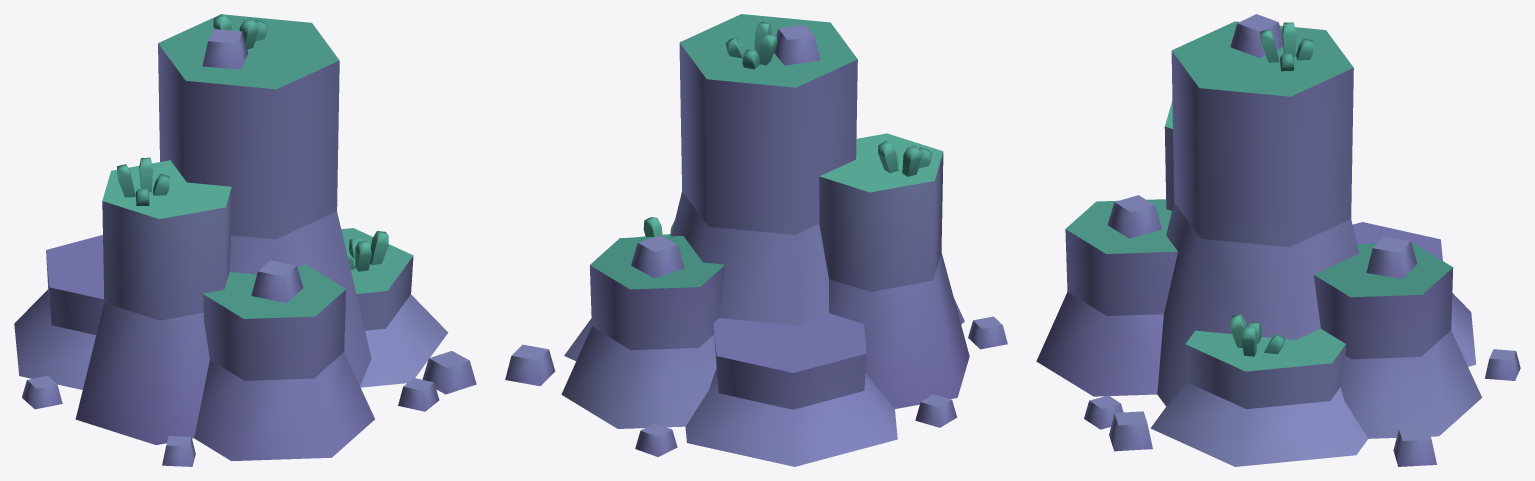
Rendered from rocks-sand-b.fbx.
3 views of the same model, side by side, from view 1: azimuth 30°, elevation 25°; view 2: azimuth 150°, elevation 25°; view 3: azimuth 270°, elevation 25° (orthographic). The views are drawn at different scales.
Parts seen in each view (by area): view 1: rocks-sand-b; view 2: rocks-sand-b; view 3: rocks-sand-b.
Part boxes in pixels (x1=…): rocks-sand-b: x1=14, y1=14, x2=476, y2=466; rocks-sand-b: x1=505, y1=14, x2=1007, y2=466; rocks-sand-b: x1=1036, y1=14, x2=1520, y2=466.
Bounding box in the file's own units: 438 × 371 × 471.
